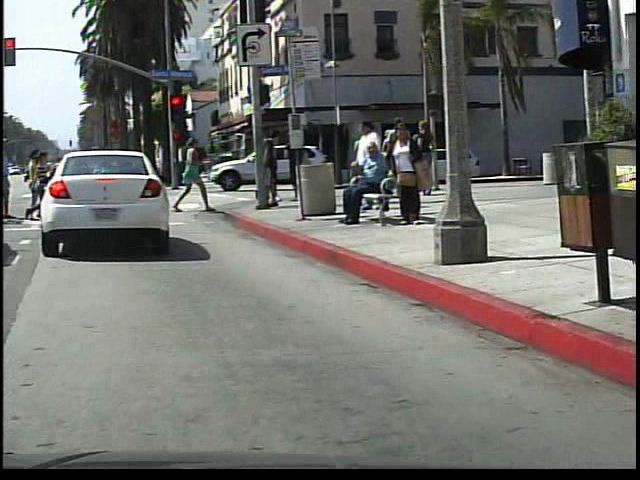person: (345, 145, 400, 225), (392, 122, 429, 230), (179, 131, 222, 220)
